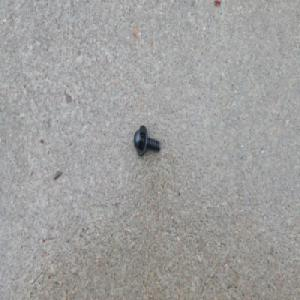BoltWasher: (133, 124, 161, 157)
